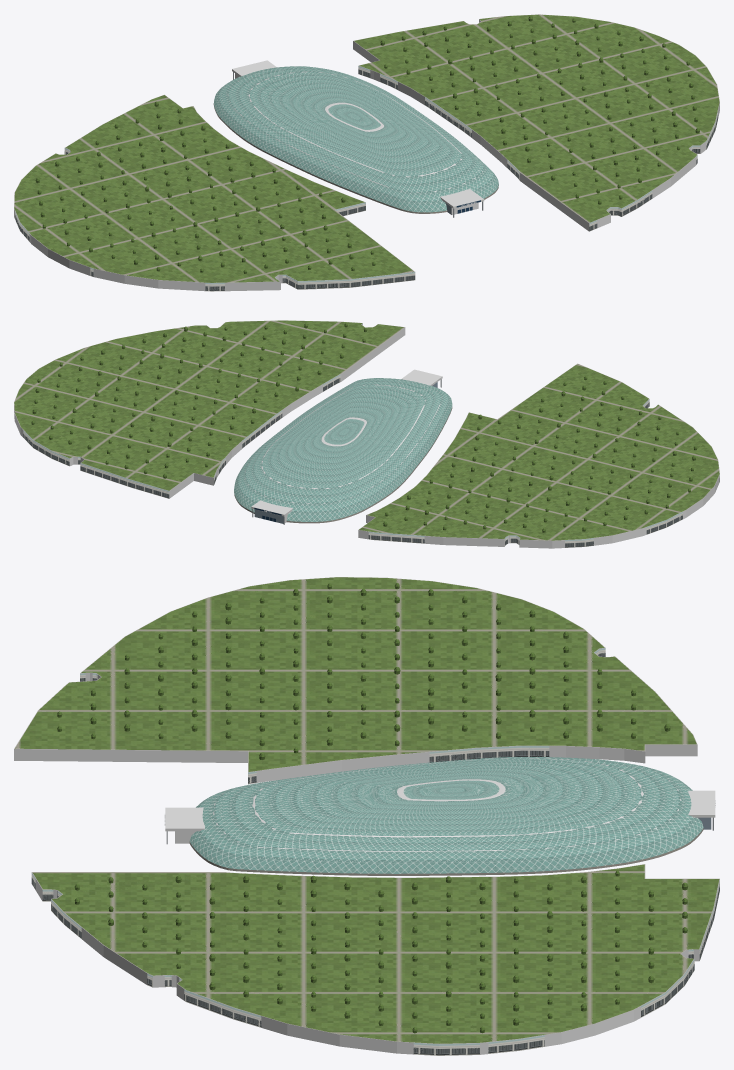
Rendered from t3gtc.glb.
3 renders of one model, top to bottom at view 1: azimuth 30°, elevation 25°; view 2: azimuth 150°, elevation 25°; view 3: azimuth 270°, elevation 25°, orthographic. The views are drawn at different scales.
Parts seen in each view (by area): view 1: Far, Dome, CarParks, COLMESH_park0, COLMESH_park1, COL_dome; view 2: Far, Dome, CarParks, COLMESH_park0, COLMESH_park1, COL_dome; view 3: Far, Dome, CarParks, COLMESH_park0, COLMESH_park1, COL_dome, COL_portal.001.
Boxes of the visible parts, bbox=[...] form: Far: bbox=[14, 14, 719, 291]; Dome: bbox=[213, 66, 498, 217]; CarParks: bbox=[14, 14, 719, 291]; COLMESH_park0: bbox=[14, 151, 282, 291]; COLMESH_park1: bbox=[353, 19, 719, 231]; COL_dome: bbox=[227, 66, 482, 192]; Far: bbox=[14, 320, 719, 547]; Dome: bbox=[234, 378, 452, 524]; CarParks: bbox=[14, 320, 719, 547]; COLMESH_park0: bbox=[358, 476, 719, 548]; COLMESH_park1: bbox=[14, 327, 405, 498]; COL_dome: bbox=[245, 380, 441, 503]; Far: bbox=[15, 577, 719, 1055]; Dome: bbox=[166, 757, 715, 875]; CarParks: bbox=[14, 577, 719, 1055]; COLMESH_park0: bbox=[14, 673, 697, 782]; COLMESH_park1: bbox=[35, 879, 699, 1054]; COL_dome: bbox=[213, 758, 681, 875]; COL_portal.001: bbox=[175, 809, 204, 843].
Bounding box in the file's own units: 557 × 20.01 × 356.
Materials: 12 (3 with a texture image).
